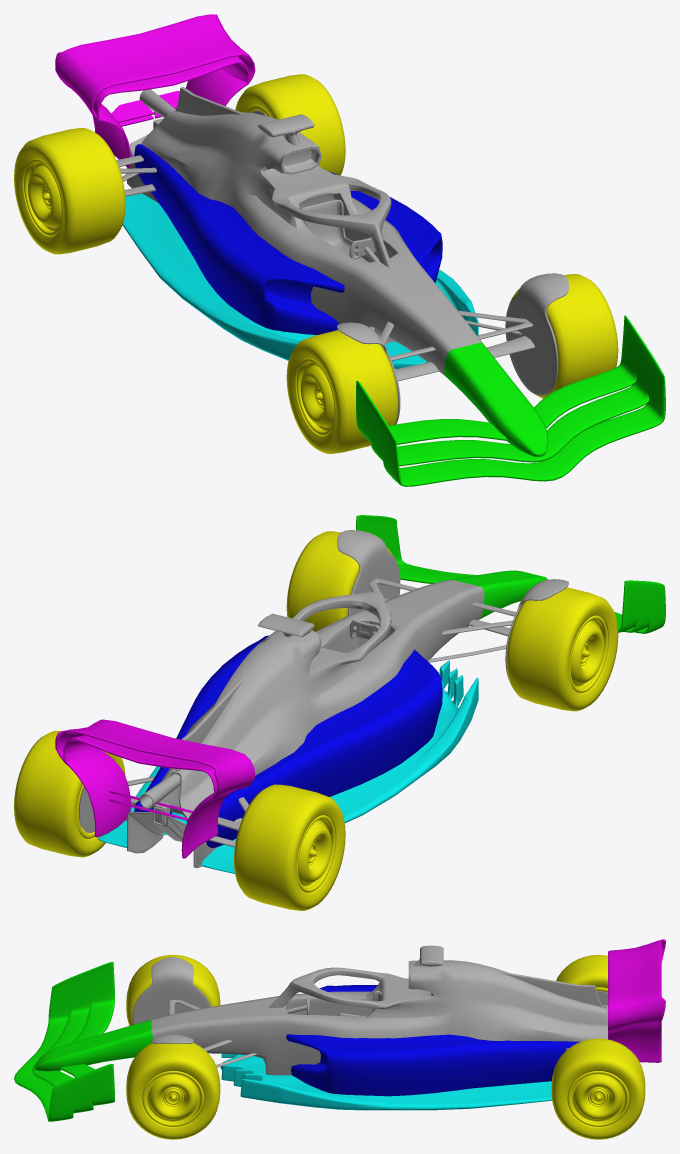
File: Race Car.fbx
3 views of the same model, one above another, from view 1: azimuth 30°, elevation 25°; view 2: azimuth 150°, elevation 25°; view 3: azimuth 270°, elevation 25° (orthographic). The views are drawn at different scales.
Parts seen in each view (by area): view 1: Race_Car_Base1, Front__Wing, RR_Wheel, FR_Wheel, FL_Wheel, RL_Wheel, FL_Cover, FR_Cover; view 2: Race_Car_Base1, RR_Wheel, FR_Wheel, RL_Wheel, Front__Wing, FL_Wheel, FL_Cover, FR_Cover; view 3: Race_Car_Base1, Front__Wing, RL_Wheel, FL_Wheel, FR_Cover, FR_Wheel, RR_Wheel, FL_Cover.
Boxes of the visible parts, bbox=[...] form: Race_Car_Base1: bbox=[55, 14, 535, 381]; Front__Wing: bbox=[356, 315, 665, 486]; RR_Wheel: bbox=[14, 128, 125, 254]; FR_Wheel: bbox=[286, 330, 398, 453]; FL_Wheel: bbox=[509, 274, 618, 398]; RL_Wheel: bbox=[235, 74, 345, 175]; FL_Cover: bbox=[505, 273, 568, 395]; FR_Cover: bbox=[337, 322, 400, 424]; Race_Car_Base1: bbox=[55, 578, 516, 873]; RR_Wheel: bbox=[234, 784, 345, 910]; FR_Wheel: bbox=[506, 587, 618, 711]; RL_Wheel: bbox=[14, 730, 125, 857]; Front__Wing: bbox=[356, 515, 665, 633]; FL_Wheel: bbox=[286, 531, 392, 631]; FL_Cover: bbox=[337, 530, 400, 615]; FR_Cover: bbox=[505, 579, 568, 679]; Race_Car_Base1: bbox=[151, 939, 665, 1110]; Front__Wing: bbox=[14, 962, 153, 1121]; RL_Wheel: bbox=[551, 1038, 645, 1139]; FL_Wheel: bbox=[126, 1042, 220, 1139]; FR_Cover: bbox=[132, 957, 210, 1024]; FR_Wheel: bbox=[126, 954, 220, 1025]; RR_Wheel: bbox=[556, 954, 607, 992]; FL_Cover: bbox=[151, 1034, 193, 1043].
Bounding box in the file's own units: 8.04 × 4.8 × 20.81.
